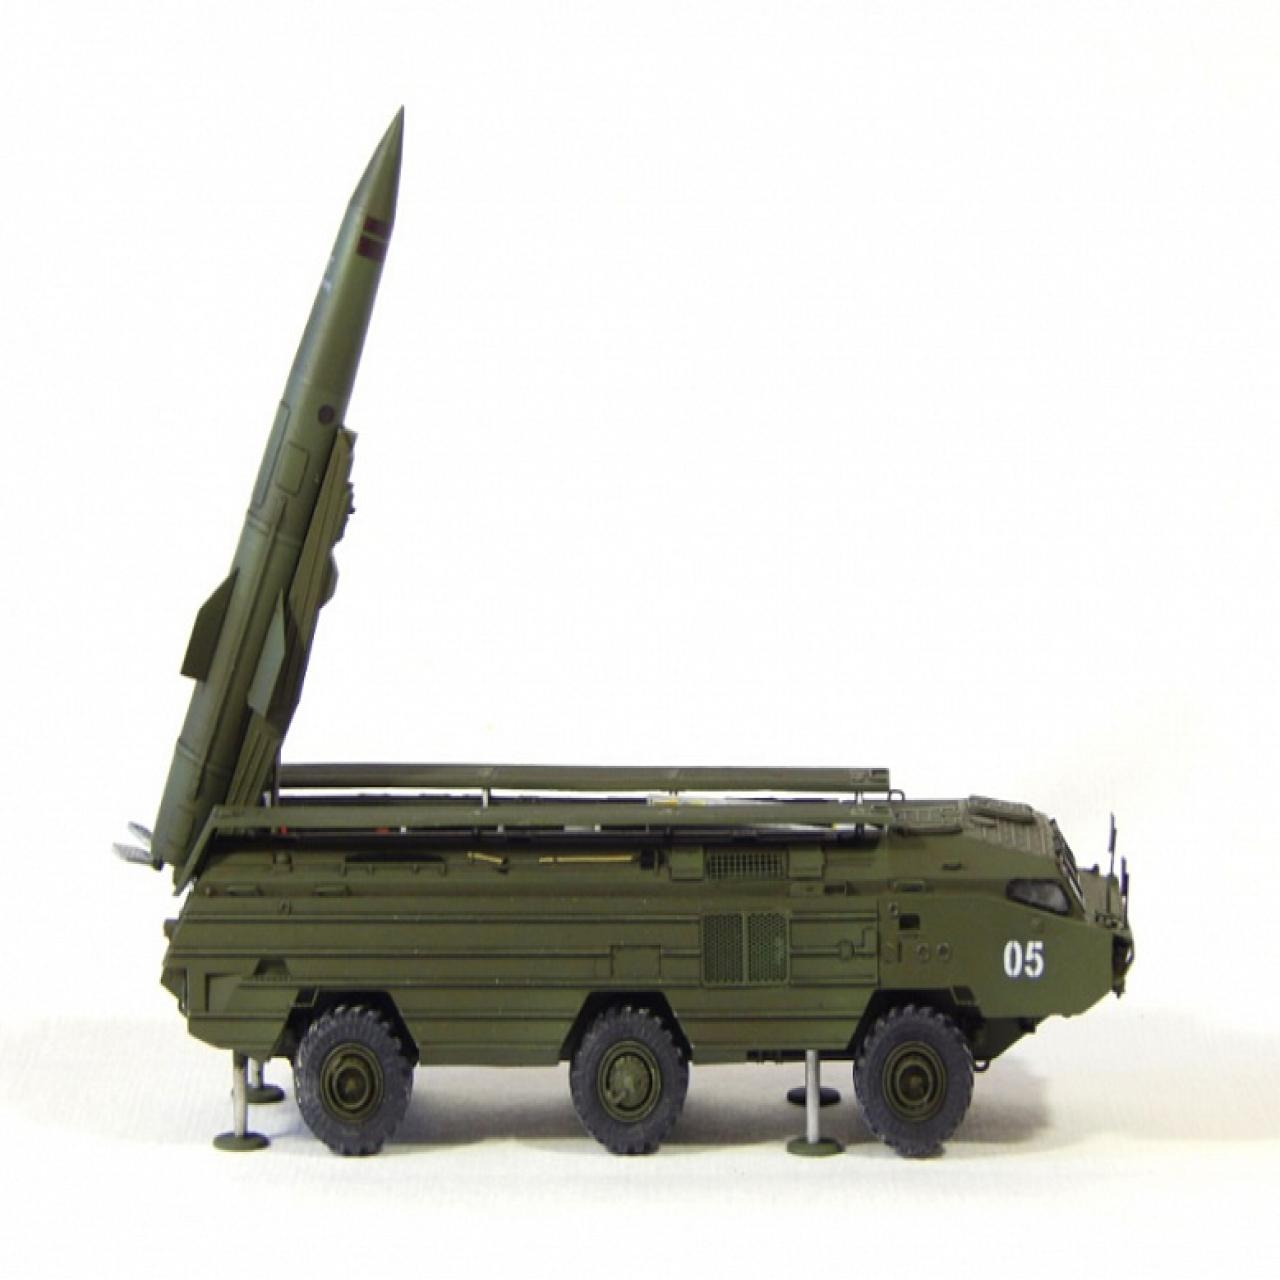MIL_Veh: (158, 110, 1132, 1156)
